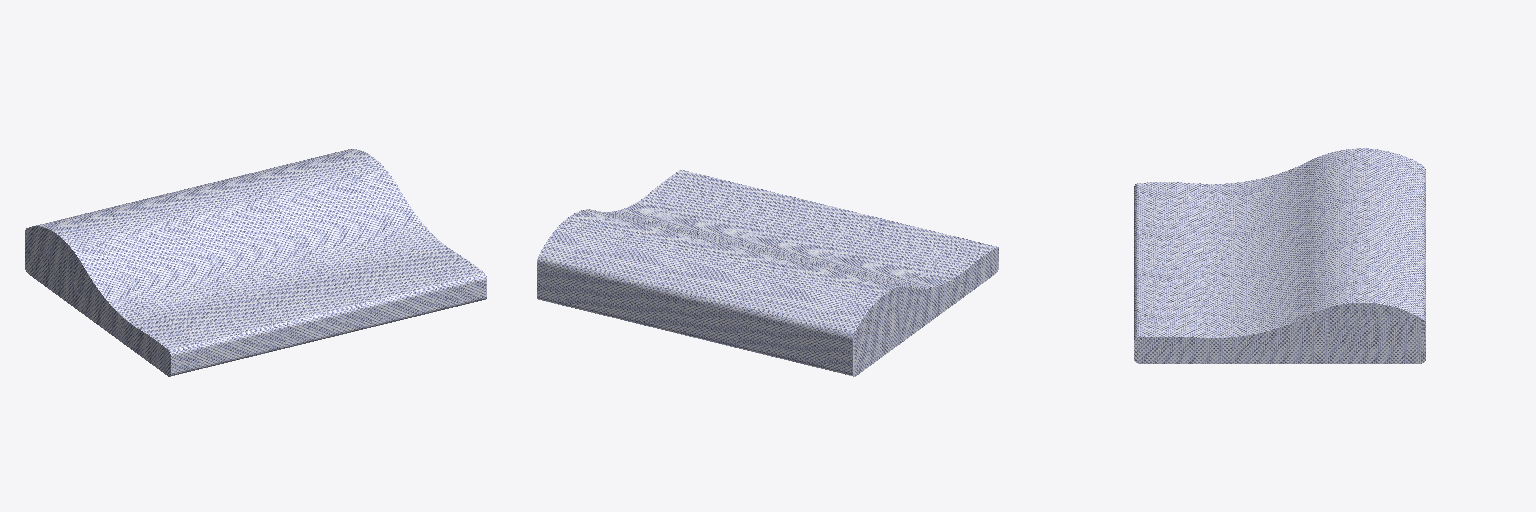
3 renders of one model, left to right at view 1: azimuth 30°, elevation 25°; view 2: azimuth 150°, elevation 25°; view 3: azimuth 270°, elevation 25°, orthographic.
Visible parts, largest first — view 1: indigo_blue; view 2: indigo_blue; view 3: indigo_blue.
Boxes of the visible parts, x1=… form: indigo_blue: x1=25, y1=149, x2=486, y2=376; indigo_blue: x1=537, y1=170, x2=998, y2=376; indigo_blue: x1=1134, y1=148, x2=1425, y2=363.
Size of the model in its own units: 5.66 by 1.04 by 4.53.
Materials: 1 (1 with a texture image).